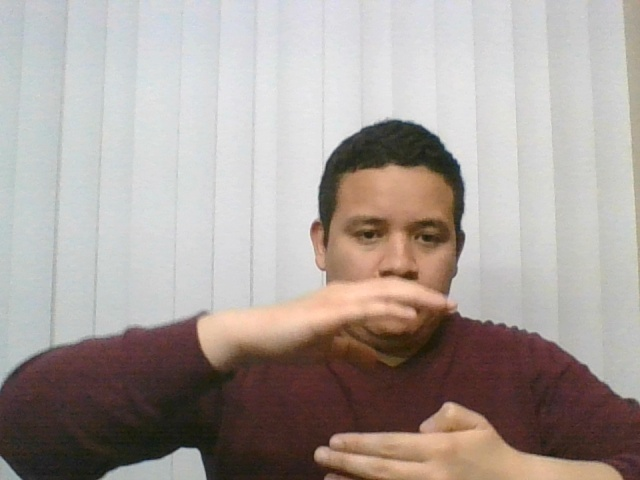To Study: (133, 255, 563, 478)
